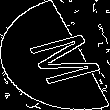M_E: (10, 25, 100, 85)
